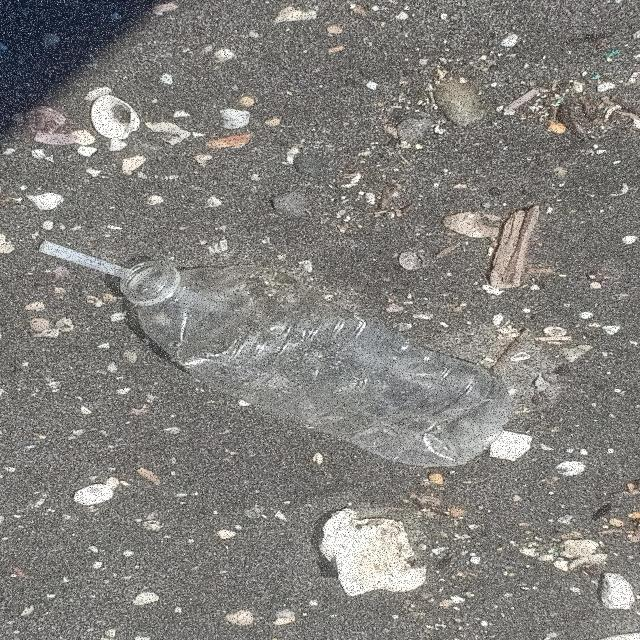plastic_waste: (120, 260, 516, 470)
styrofoam_waste: (323, 507, 433, 599)
